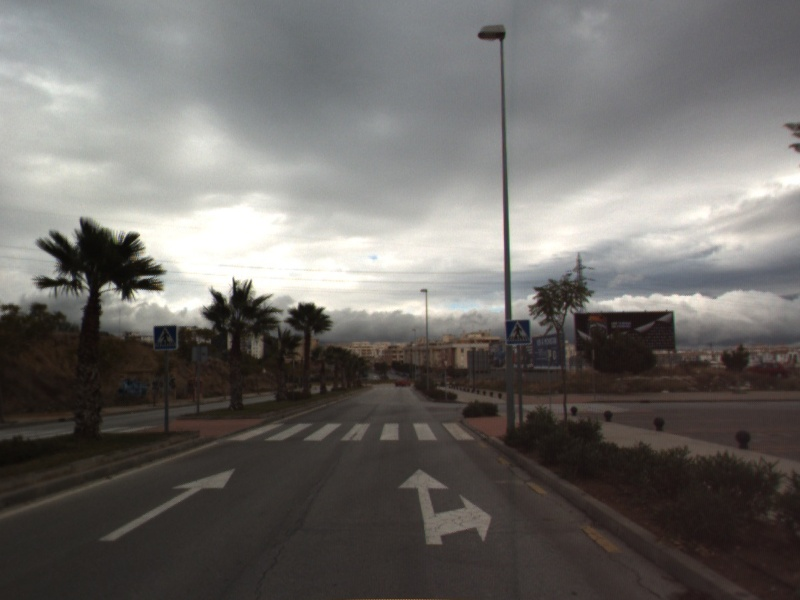STRAIGHT: (96, 466, 237, 543)
STRAIGHT_RIGHT: (396, 466, 494, 547)
